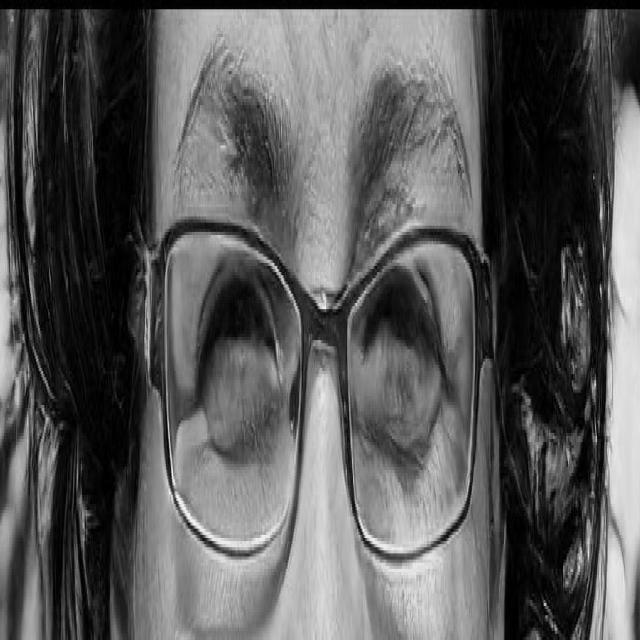real: (170, 74, 474, 602)
